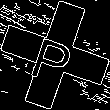P_N: (30, 25, 80, 85)
